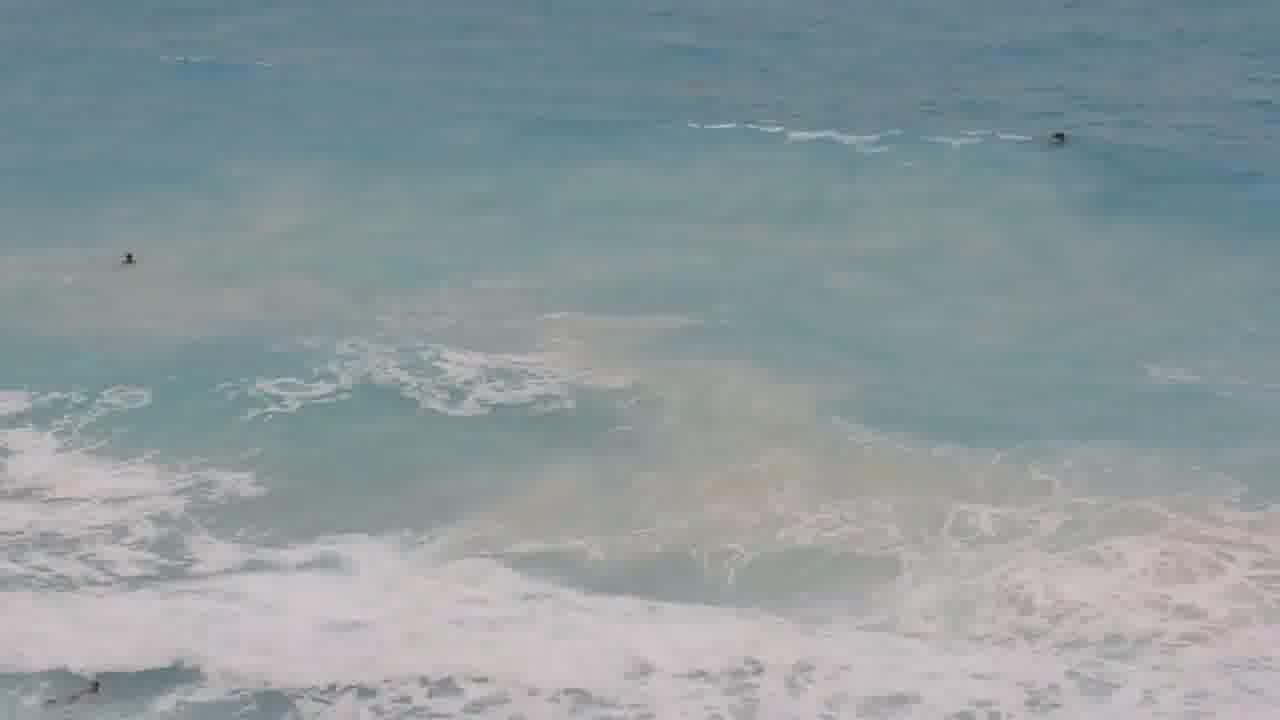human: (105, 239, 150, 282), (1036, 123, 1085, 160)
